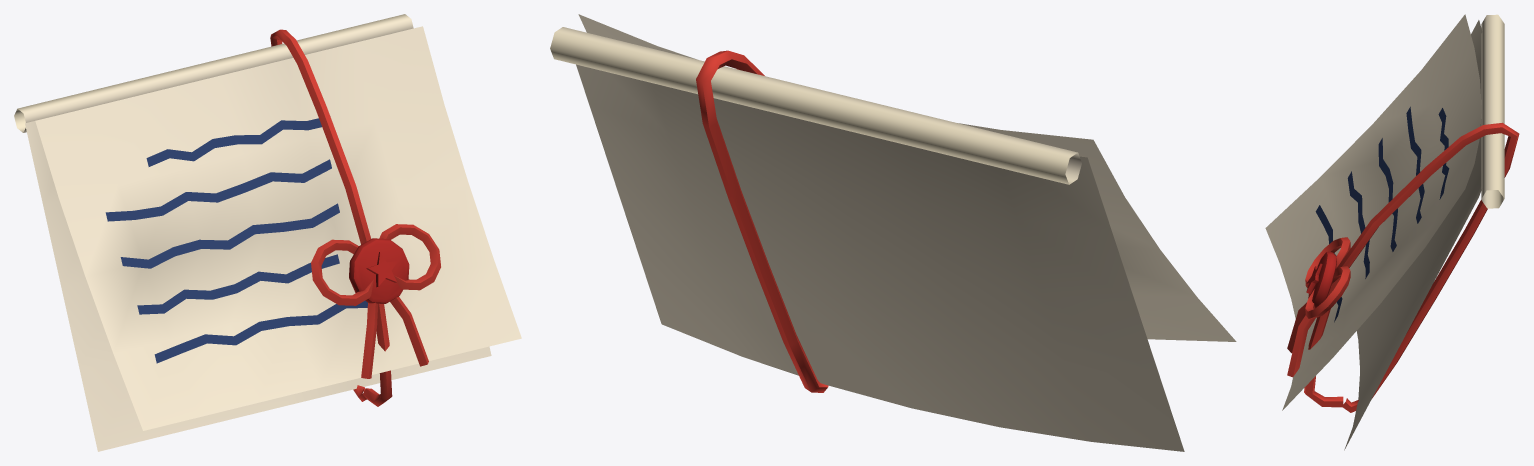
The model's file is journal-page.glb.
The picture shows the model from 3 angles, left to right: view 1: azimuth 30°, elevation 25°; view 2: azimuth 150°, elevation 25°; view 3: azimuth 270°, elevation 25°; orthographic projection. The views are drawn at different scales.
Visible parts, largest first — view 1: Journal page Paper, Journal page Ink, Journal page Fabric red, Journal page Wax seal; view 2: Journal page Paper, Journal page Fabric red; view 3: Journal page Paper, Journal page Fabric red, Journal page Ink, Journal page Wax seal.
Part boxes in pixels (x1,y1,x2,y2): Journal page Paper: (14, 14, 521, 451); Journal page Ink: (105, 118, 367, 363); Journal page Fabric red: (270, 29, 440, 406); Journal page Wax seal: (349, 238, 409, 303); Journal page Paper: (550, 14, 1236, 451); Journal page Fabric red: (696, 50, 828, 392); Journal page Paper: (1265, 14, 1504, 450); Journal page Fabric red: (1287, 122, 1519, 412); Journal page Ink: (1315, 106, 1449, 322); Journal page Wax seal: (1306, 251, 1336, 308).
Size of the model in its own units: 0.27 by 0.2049 by 0.163.
